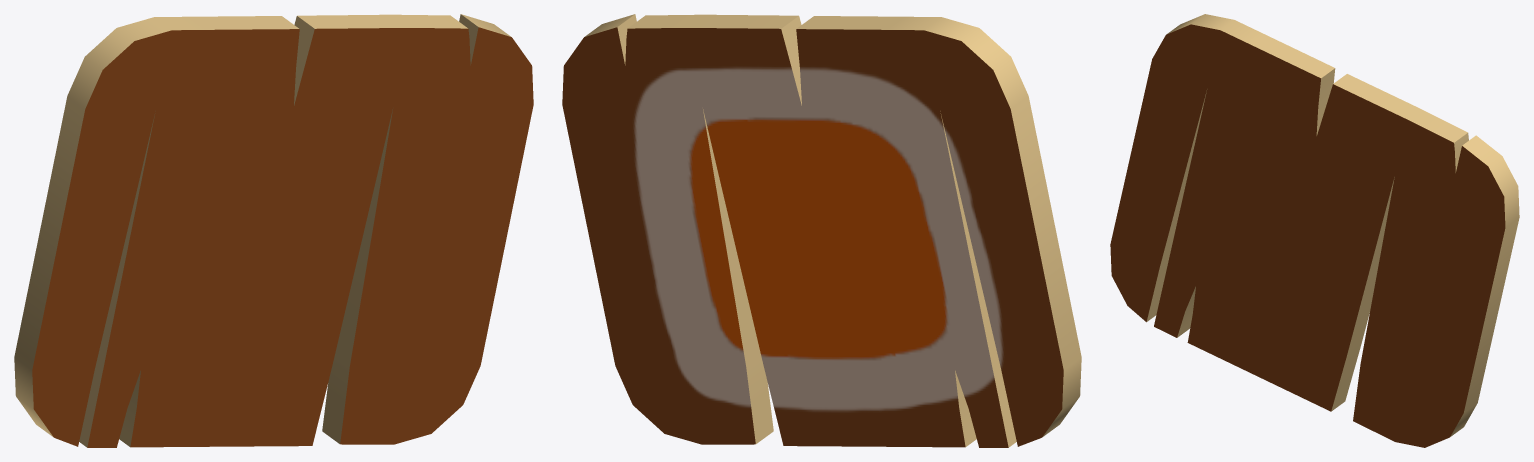
Rendered from ChineseShop_Dif3_Sc2.fbx.
3 views of the same model, side by side, from view 1: azimuth 30°, elevation 25°; view 2: azimuth 150°, elevation 25°; view 3: azimuth 330°, elevation 25° (orthographic). The views are drawn at different scales.
Visible parts, largest first — view 1: ChineseShop_Dif3_Sc2; view 2: ChineseShop_Dif3_Sc2; view 3: ChineseShop_Dif3_Sc2.
Boxes of the visible parts, x1,y1,x2,y2 form: ChineseShop_Dif3_Sc2: (14, 14, 533, 447); ChineseShop_Dif3_Sc2: (562, 14, 1081, 447); ChineseShop_Dif3_Sc2: (1110, 14, 1519, 447).
Size of the model in its own units: 3.59 by 0.2228 by 3.21.
